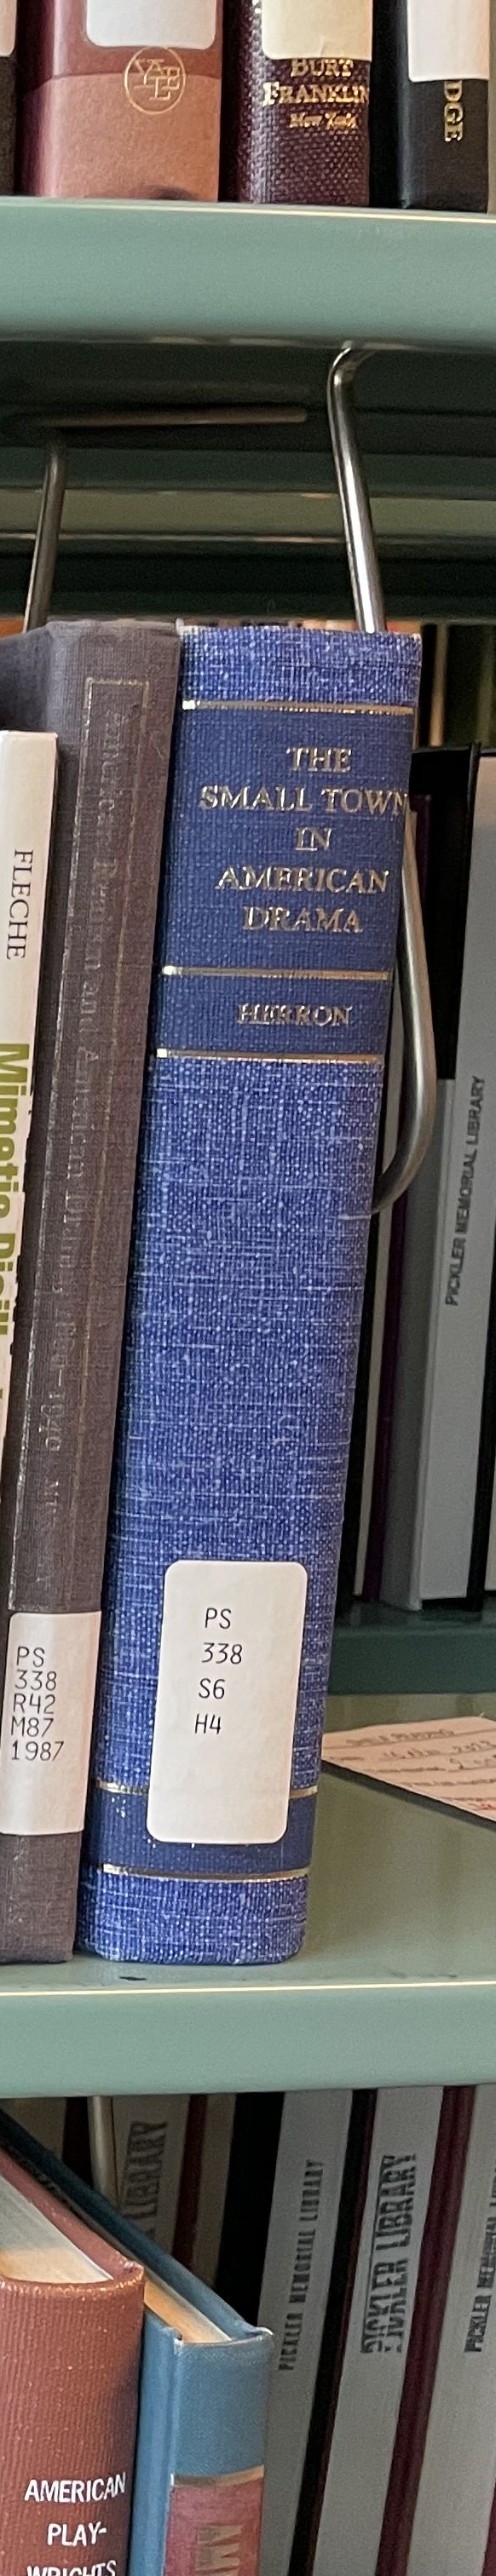call_number: (146, 1562, 302, 1843), (0, 1610, 103, 1840)
